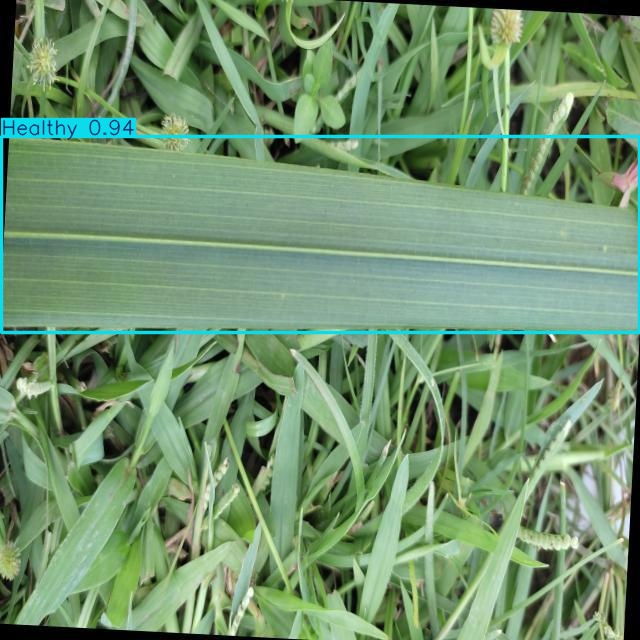Healthy: (2, 137, 639, 332)
